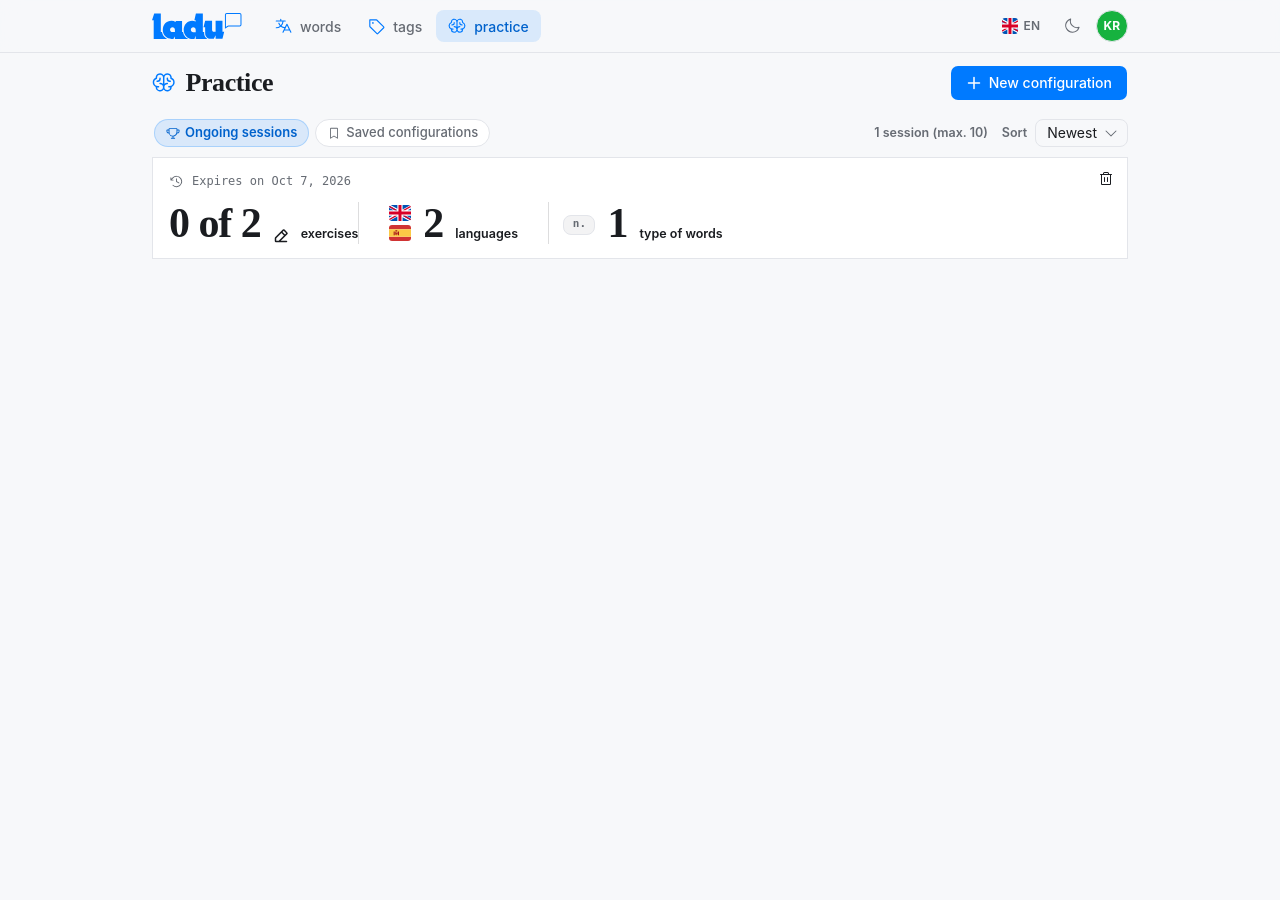
PracticePage — list badges › switching badges swaps what is shown
The width and height of the screenshot is (1280, 900).
Click the button "Saved configurations".
click(403, 133)  # box [315, 119, 490, 147]
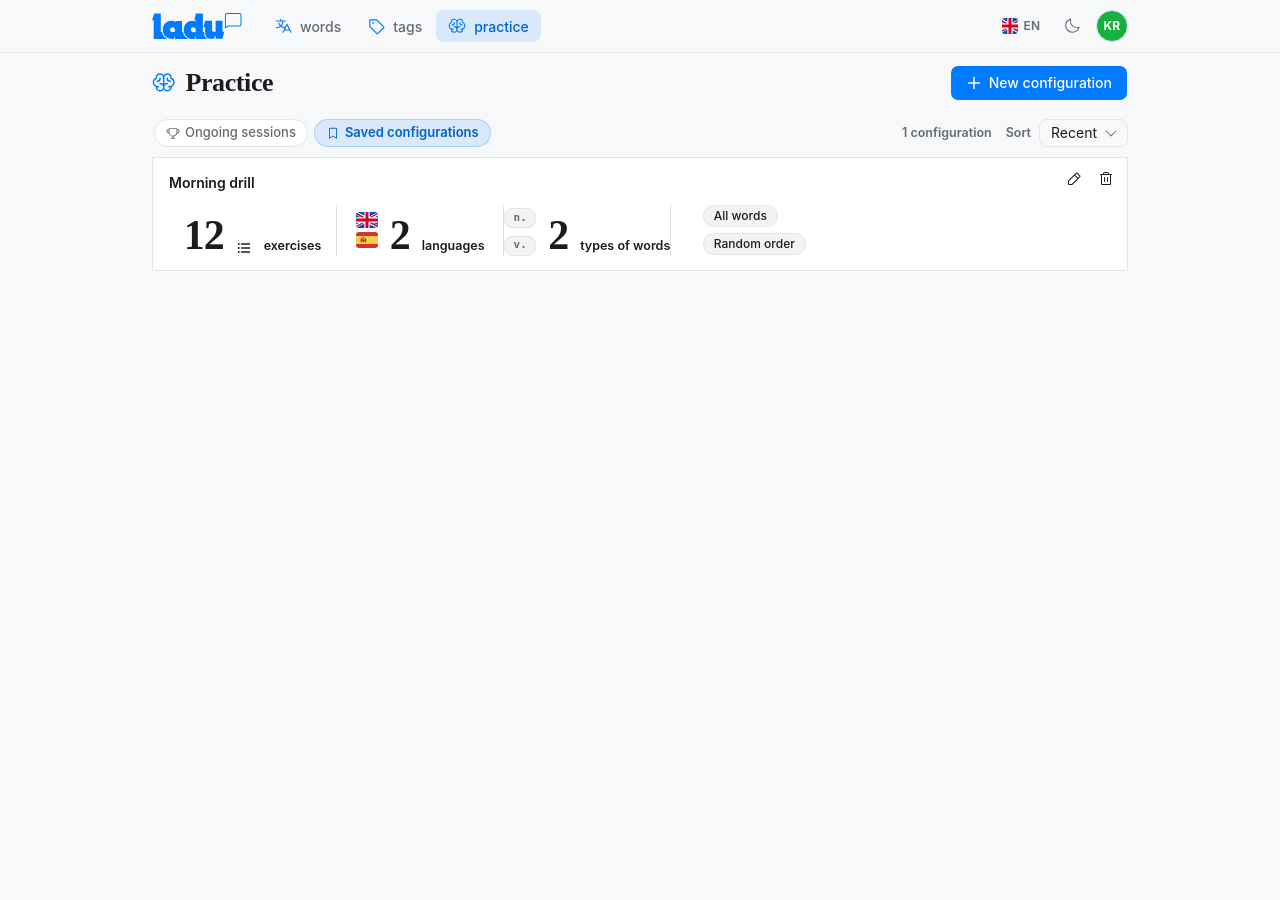
Result: the button with aria-label "Use configuration Morning drill" is shown at [152, 157, 1128, 270]
Click the button "New configuration".
click(1039, 83)  # box [950, 65, 1128, 101]
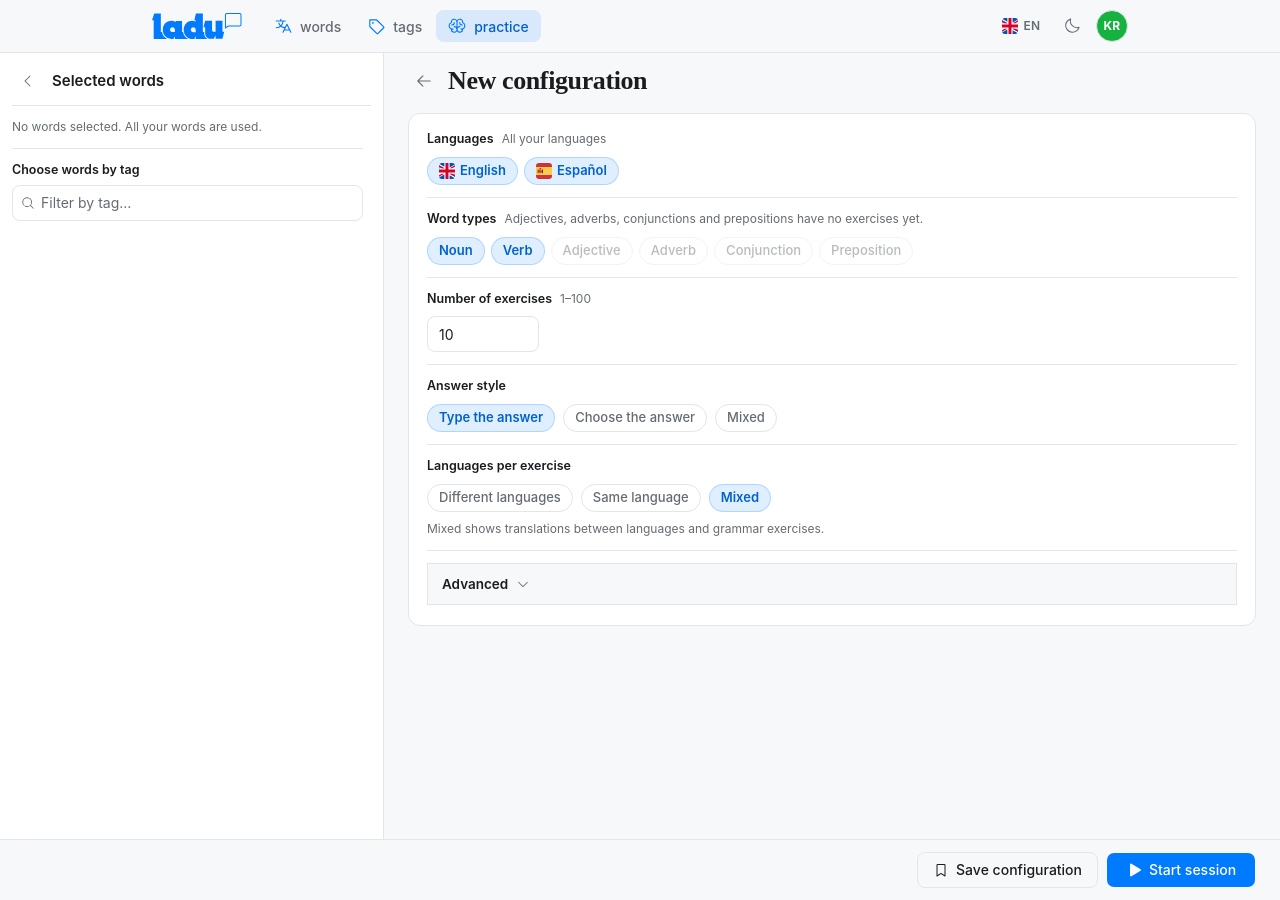
Result: the button "Start session" is shown at [1106, 852, 1256, 888]
Result: the heading "New configuration" is shown at [448, 66, 647, 96]
Result: the element "Lists" is gone
Click the button named "Back to Practice".
click(424, 81)  # box [408, 65, 440, 97]
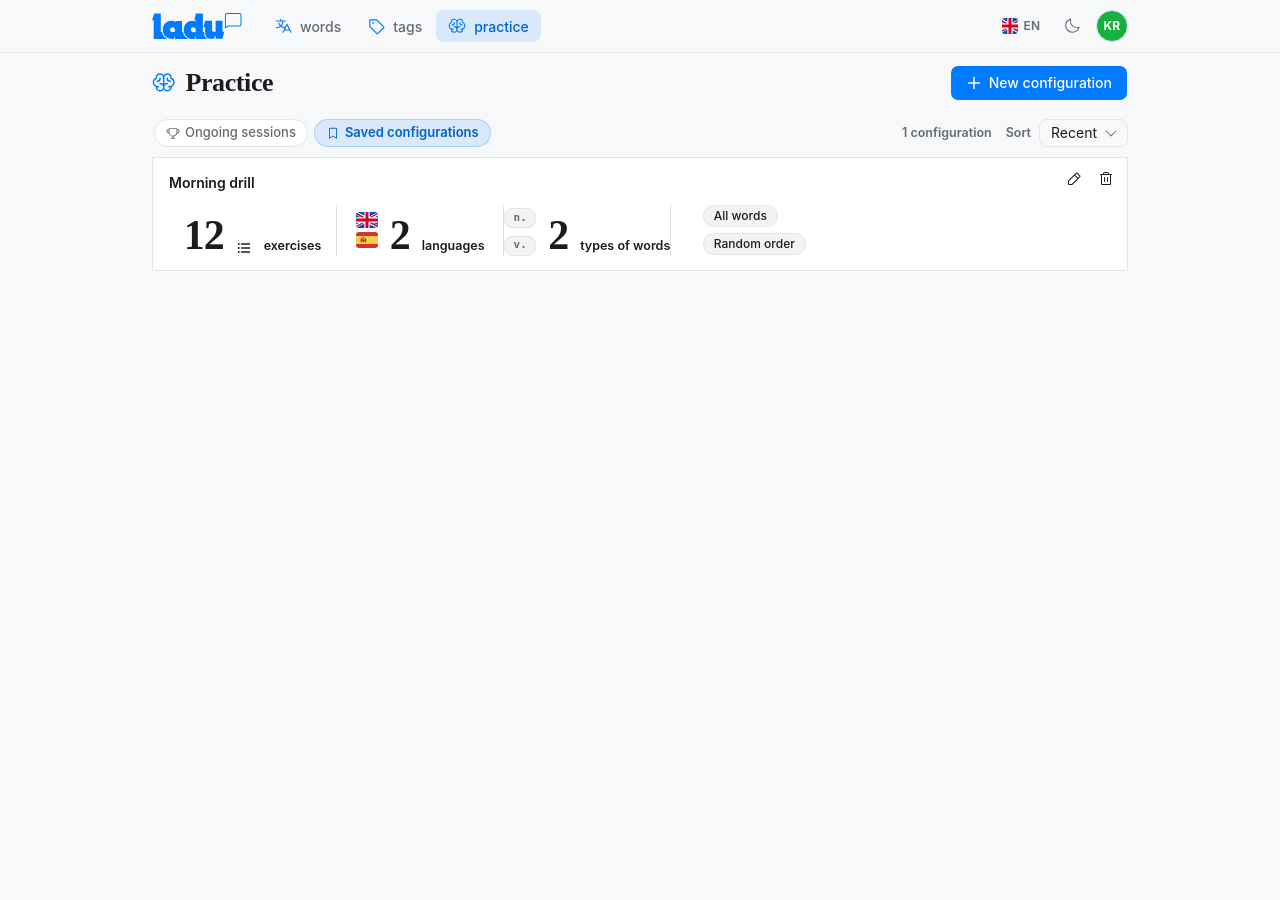
Result: the heading "Practice" is shown at [152, 68, 273, 98]
Result: the element named "Lists" is shown at [152, 117, 493, 149]
Result: the button "Start session" is gone
